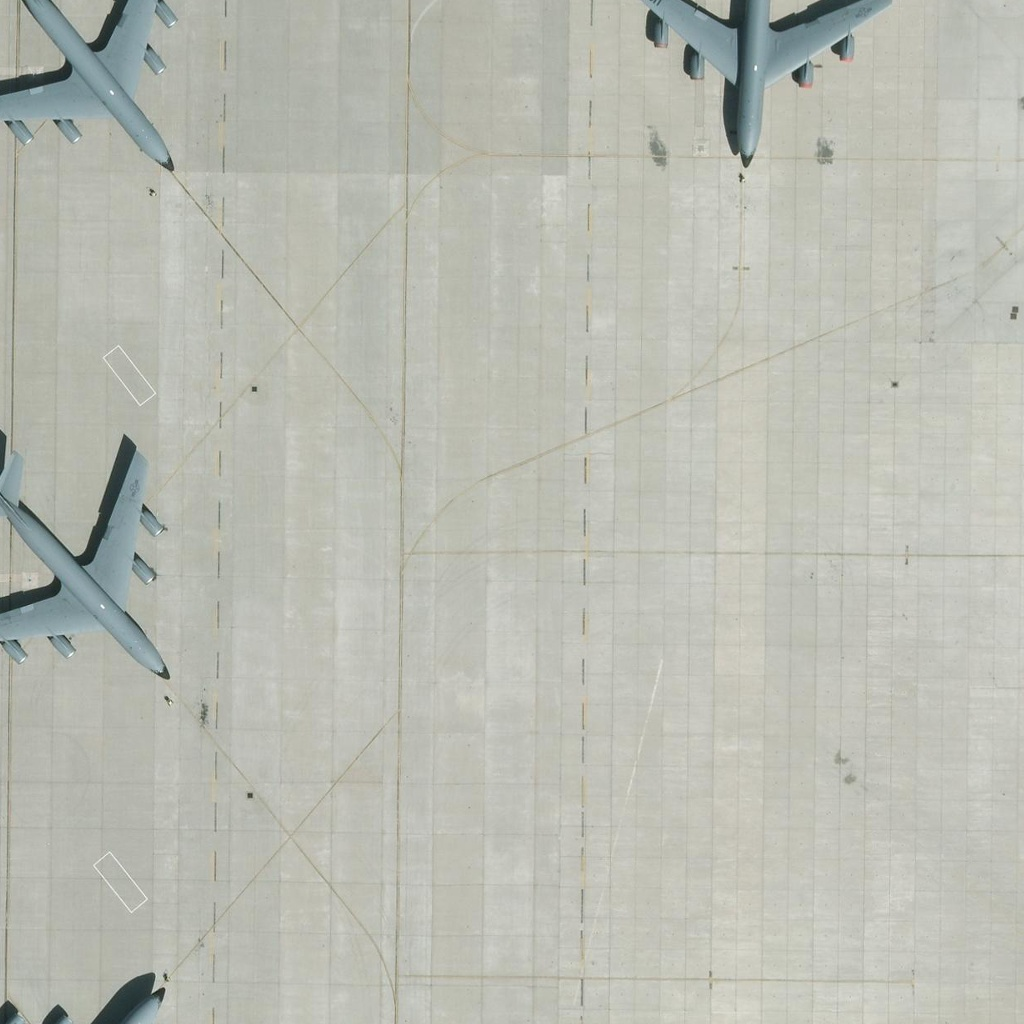plane: (618, 1, 898, 172), (1, 434, 171, 689), (1, 1, 183, 182), (1, 978, 173, 1024)
